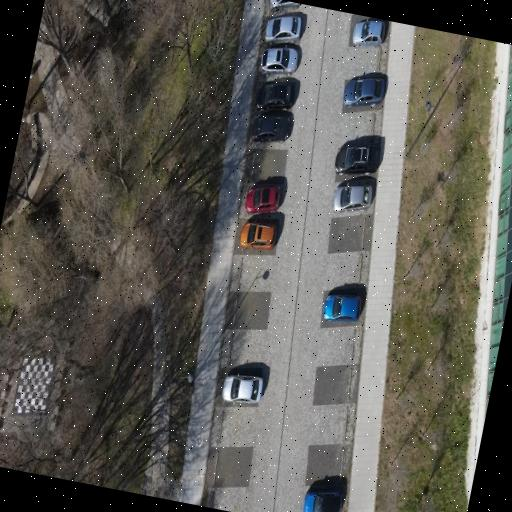car: (333, 179, 376, 212), (335, 145, 380, 174), (343, 78, 385, 108), (222, 375, 263, 403), (252, 112, 290, 142), (261, 46, 298, 76), (240, 221, 277, 250), (257, 82, 295, 110), (323, 295, 361, 322), (245, 186, 280, 214), (265, 16, 301, 43), (352, 18, 385, 47), (303, 489, 343, 511), (270, 0, 301, 10)
